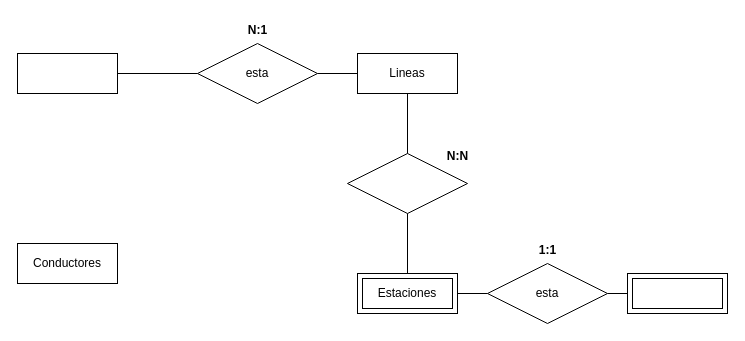
This 745x341 diagram has some shape labels left out. Here are the shapes that lost their labels. From the top down, the box of each, then its label:
(16, 52, 118, 94): Trenes
(346, 152, 468, 214): tiene
(626, 272, 728, 314): Ubicaciones
